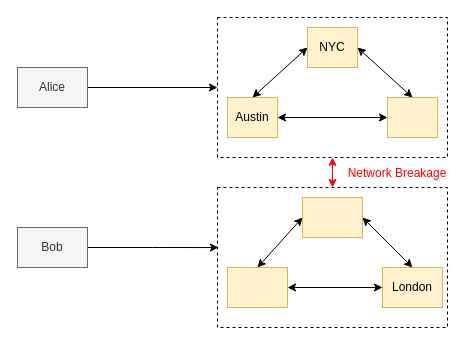
Image size: 475x345. Some labels were removed from this diagram. The shapes that lost their labels are listed below. From the top down, each one's box as (x1, y1, x2, y2) in pixels, then its label:
(386, 96, 438, 138): Miami
(302, 196, 362, 238): Mumbai
(226, 266, 288, 308): Moscow
